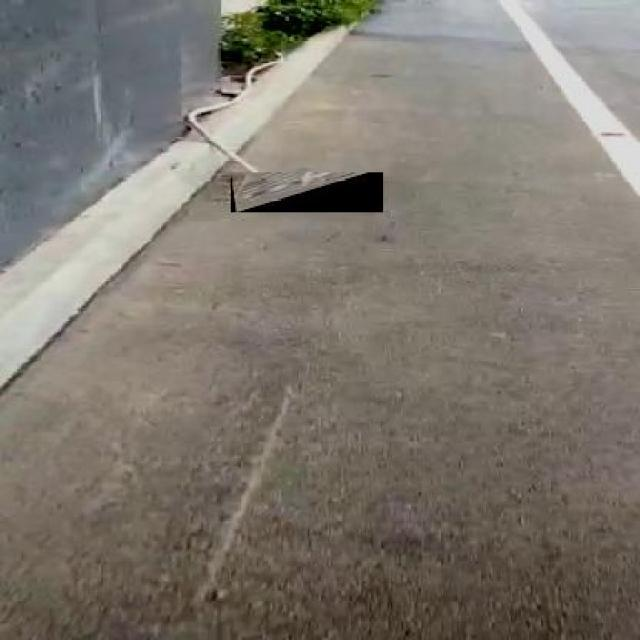Manhole: (230, 172, 384, 212)
